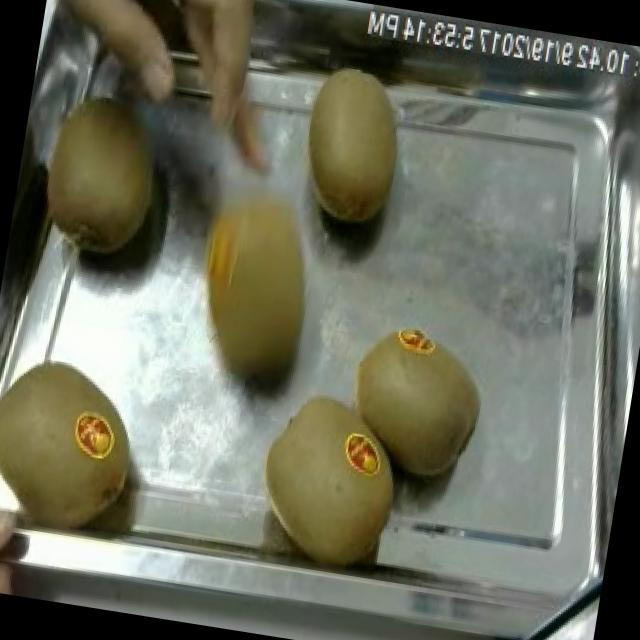Fruit: (6, 69, 196, 286), (171, 158, 340, 401), (238, 379, 416, 577), (331, 310, 498, 490), (0, 343, 152, 540), (280, 52, 420, 242)
